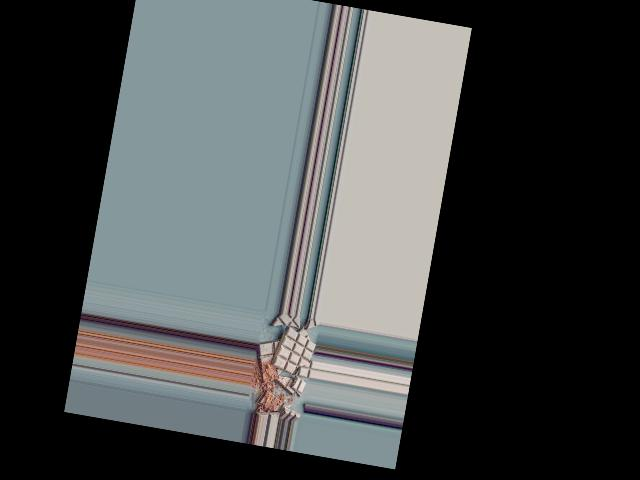chocolate: (271, 323, 318, 376)
